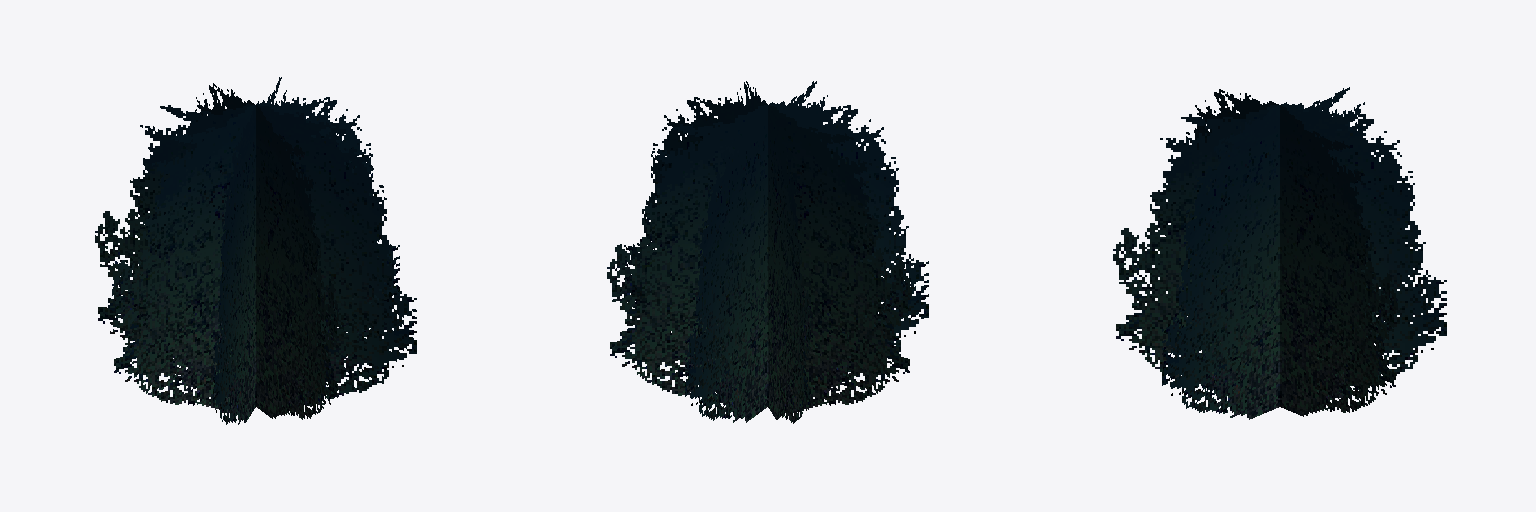
The picture shows the model from 3 angles: view 1: azimuth 30°, elevation 25°; view 2: azimuth 150°, elevation 25°; view 3: azimuth 270°, elevation 25°; orthographic projection.
Parts seen in each view (by area): view 1: Plane.001, Plane, Plane.002, Plane.003; view 2: Plane, Plane.003, Plane.002, Plane.001; view 3: Plane.001, Plane.003, Plane.002.
Part boxes in pixels (x1,y1,x2,y2): Plane.001: (95, 104, 416, 410); Plane: (112, 97, 399, 413); Plane.002: (190, 83, 338, 419); Plane.003: (213, 77, 286, 424); Plane: (624, 97, 911, 413); Plane.003: (607, 102, 928, 405); Plane.002: (685, 81, 827, 422); Plane.001: (737, 81, 810, 423); Plane.001: (1162, 87, 1374, 419); Plane.003: (1165, 89, 1397, 416); Plane.002: (1113, 105, 1446, 403).
Size of the model in its own units: 2 by 2 by 2.
1 materials, 1 textured.